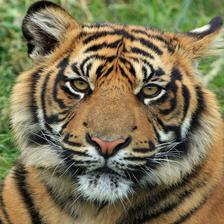tiger: (11, 0, 223, 223)
